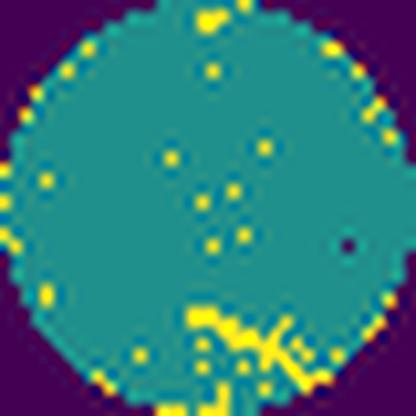Scratch: (183, 302, 335, 395)
